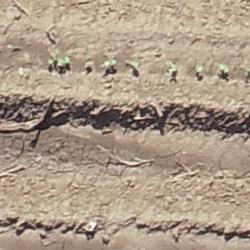cotton: (196, 66, 203, 72), (220, 64, 227, 70), (64, 56, 69, 64), (171, 64, 177, 70), (59, 59, 64, 66), (112, 59, 117, 65), (134, 63, 139, 68), (49, 59, 53, 63)
